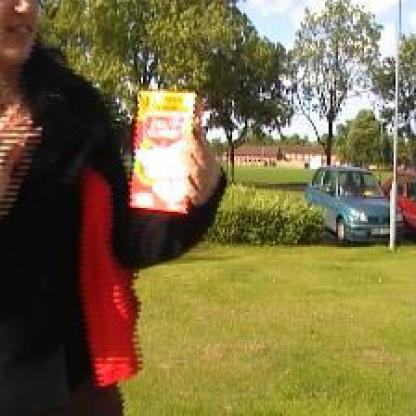other: (66, 167, 149, 376), (130, 81, 196, 210)
